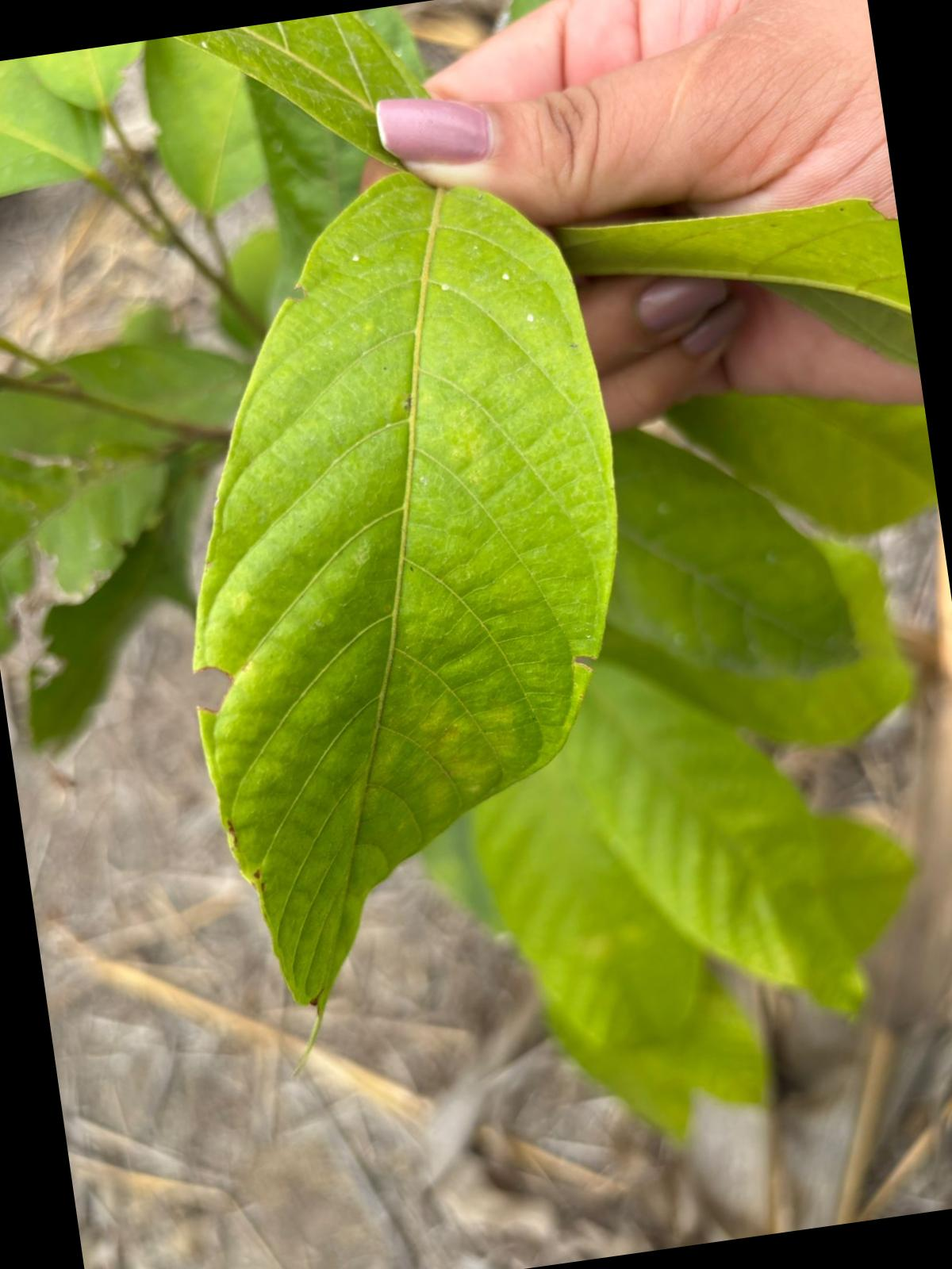Nitrogeno: (196, 173, 616, 1011)
